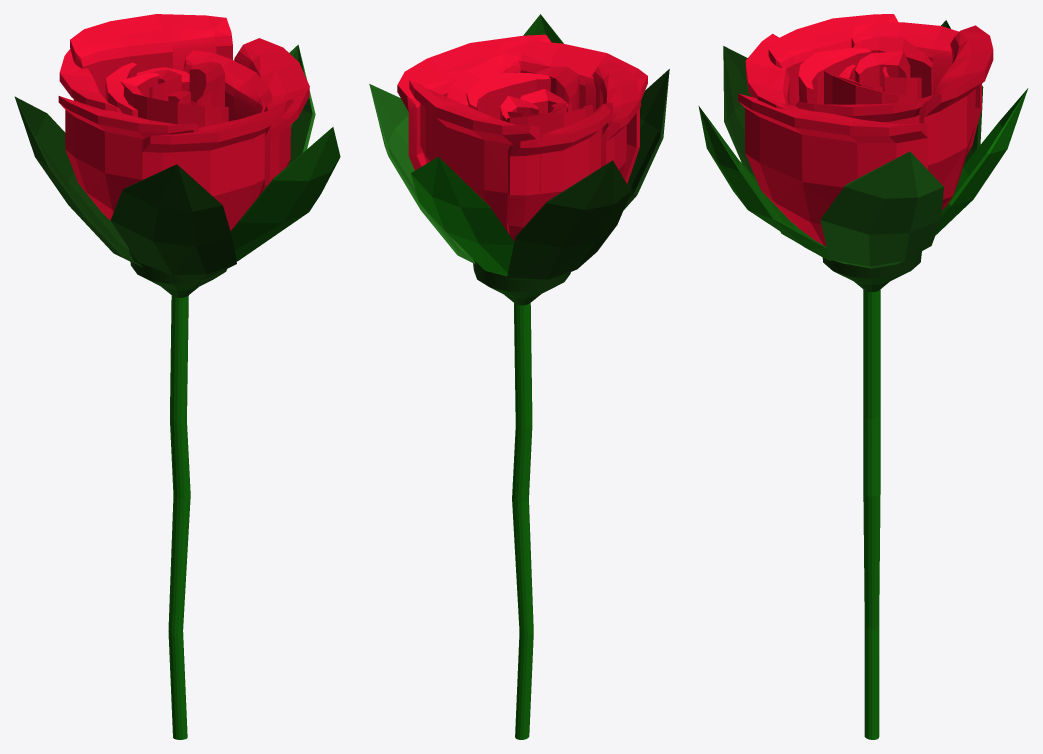
File: jangmi1-1.fbx
3 views of the same model, side by side, from view 1: azimuth 30°, elevation 25°; view 2: azimuth 150°, elevation 25°; view 3: azimuth 270°, elevation 25° (orthographic). The views are drawn at different scales.
Visible parts, largest first — view 1: jangmi1-1; view 2: jangmi1-1; view 3: jangmi1-1.
Part boxes in pixels (<box>): jangmi1-1: <box>14,14,340,739</box>; jangmi1-1: <box>369,14,669,739</box>; jangmi1-1: <box>698,14,1028,739</box>.
Size of the model in its own units: 0.1813 by 0.4395 by 0.1926.
